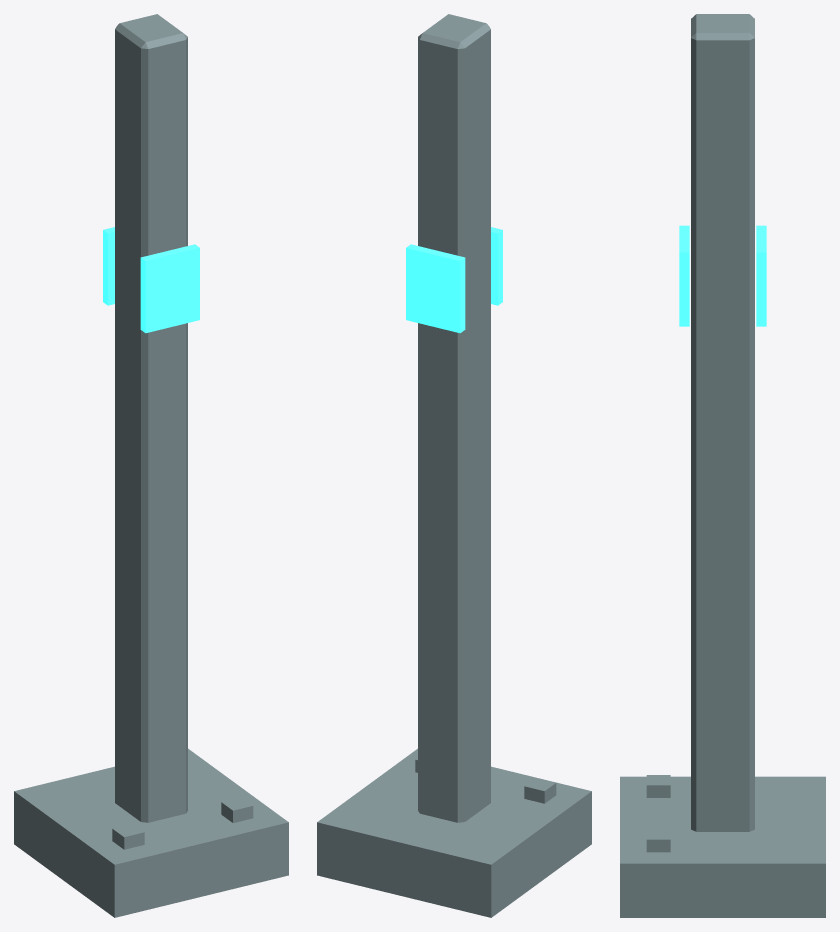
File: RoadPlan_Parapet_L4_Upright_2.glb
3 views of the same model, side by side, from view 1: azimuth 30°, elevation 25°; view 2: azimuth 150°, elevation 25°; view 3: azimuth 270°, elevation 25° (orthographic). The views are drawn at different scales.
Parts seen in each view (by area): view 1: RoadPlan_Parapet_L4_Upright_2; view 2: RoadPlan_Parapet_L4_Upright_2; view 3: RoadPlan_Parapet_L4_Upright_2.
Part boxes in pixels (<box>): RoadPlan_Parapet_L4_Upright_2: <box>14,14,288,917</box>; RoadPlan_Parapet_L4_Upright_2: <box>317,14,591,917</box>; RoadPlan_Parapet_L4_Upright_2: <box>620,14,825,917</box>.
Bounding box in the file's own units: 0.24 × 1.1 × 0.24.
